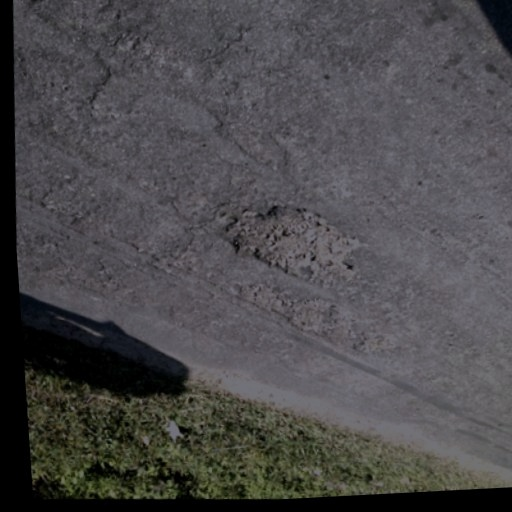pothole: (207, 195, 371, 294), (228, 276, 349, 342), (351, 328, 400, 359)
